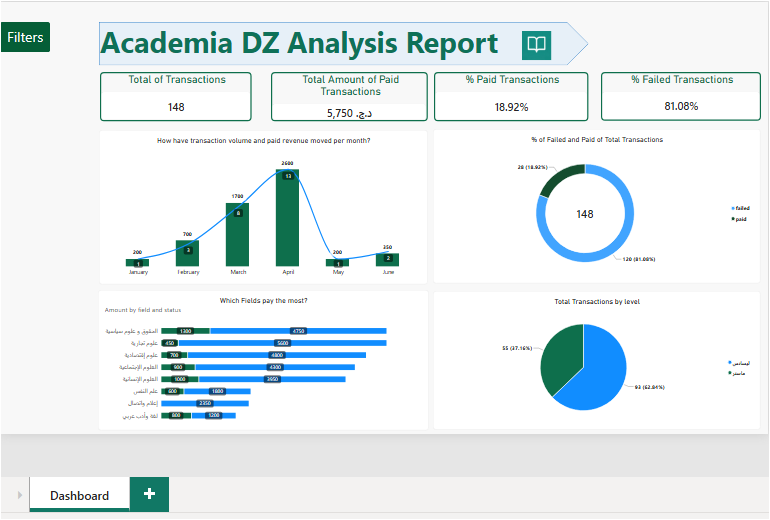

The dashboard page shown, as its layout file describes it:
{"tool":"powerbi","page":{"name":"Dashboard","canvas":[1920,1080],"ordinal":0},"visuals":[{"type":"cardVisual","title":"Total of Transactions","fields":{"Data":["orders_rows.Total Transactions"]},"box":[251.2,174.4,379.1,123.3],"z":0},{"type":"cardVisual","title":"Total Amount of Paid Transactions","fields":{"Data":["orders_rows.Paid Amounts"]},"box":[676.7,174.4,392,123],"z":1000},{"type":"cardVisual","title":"% Paid Transactions","fields":{"Data":["orders_rows.% of Paid Transactions"]},"box":[1084.2,175.1,386,123.3],"z":2000},{"type":"cardVisual","title":"% Failed Transactions","fields":{"Data":["orders_rows.% of Failed Transactions"]},"box":[1502.3,174.4,400,122.2],"z":3000},{"type":"donutChart","title":"% of Failed and Paid of Total Transactions","fields":{"Y":["orders_rows.Total Transactions"],"Category":["orders_rows.status"]},"box":[1083.7,318.6,818.6,386],"z":4000},{"type":"lineStackedColumnComboChart","title":"How have transaction volume and paid revenue moved per month?","fields":{"Y":["orders_rows.Paid Amounts"],"Category":["orders_rows.created_at.Variation.Date Hierarchy.Month"],"Y2":["orders_rows.Total Paid Transactions"]},"box":[248.1,319,821.6,386.1],"z":5000},{"type":"textbox","box":[250,50,1107.1,95.9],"z":6000},{"type":"shape","box":[248.1,50,1223.9,108.4],"z":7000},{"type":"barChart","title":"Which Fields pay the most?","fields":{"Category":["orders_rows.field"],"Series":["orders_rows.status"],"Y":["Sum(orders_rows.amount)"]},"box":[243.9,719.3,826.7,351.1],"z":8000},{"type":"pieChart","fields":{"Category":["orders_rows.level"],"Y":["orders_rows.Total Transactions"]},"box":[1083.7,723.3,818.6,346.5],"z":9000},{"type":"image","box":[1294.7,73,92.3,73.1],"z":10000},{"type":"actionButton","box":[0,49.5,125,75.3],"z":13000}]}

Visuals, with their boxes on the page's 1920x1080 design canvas (x1, y1, x2, y2). These are canvas units, not pixel positions in the 770x520 screenshot, which may show the page scaled, cropped or inside an application window:
"Total of Transactions" cardVisual: {"x1": 251, "y1": 174, "x2": 630, "y2": 298}
"Total Amount of Paid Transactions" cardVisual: {"x1": 677, "y1": 174, "x2": 1069, "y2": 297}
"% Paid Transactions" cardVisual: {"x1": 1084, "y1": 175, "x2": 1470, "y2": 298}
"% Failed Transactions" cardVisual: {"x1": 1502, "y1": 174, "x2": 1902, "y2": 297}
"% of Failed and Paid of Total Transactions" donutChart: {"x1": 1084, "y1": 319, "x2": 1902, "y2": 705}
"How have transaction volume and paid revenue moved per month?" lineStackedColumnComboChart: {"x1": 248, "y1": 319, "x2": 1070, "y2": 705}
textbox: {"x1": 250, "y1": 50, "x2": 1357, "y2": 146}
shape: {"x1": 248, "y1": 50, "x2": 1472, "y2": 158}
"Which Fields pay the most?" barChart: {"x1": 244, "y1": 719, "x2": 1071, "y2": 1070}
pieChart - orders_rows.level x orders_rows.Total Transactions: {"x1": 1084, "y1": 723, "x2": 1902, "y2": 1070}
image: {"x1": 1295, "y1": 73, "x2": 1387, "y2": 146}
actionButton: {"x1": 0, "y1": 50, "x2": 125, "y2": 125}
